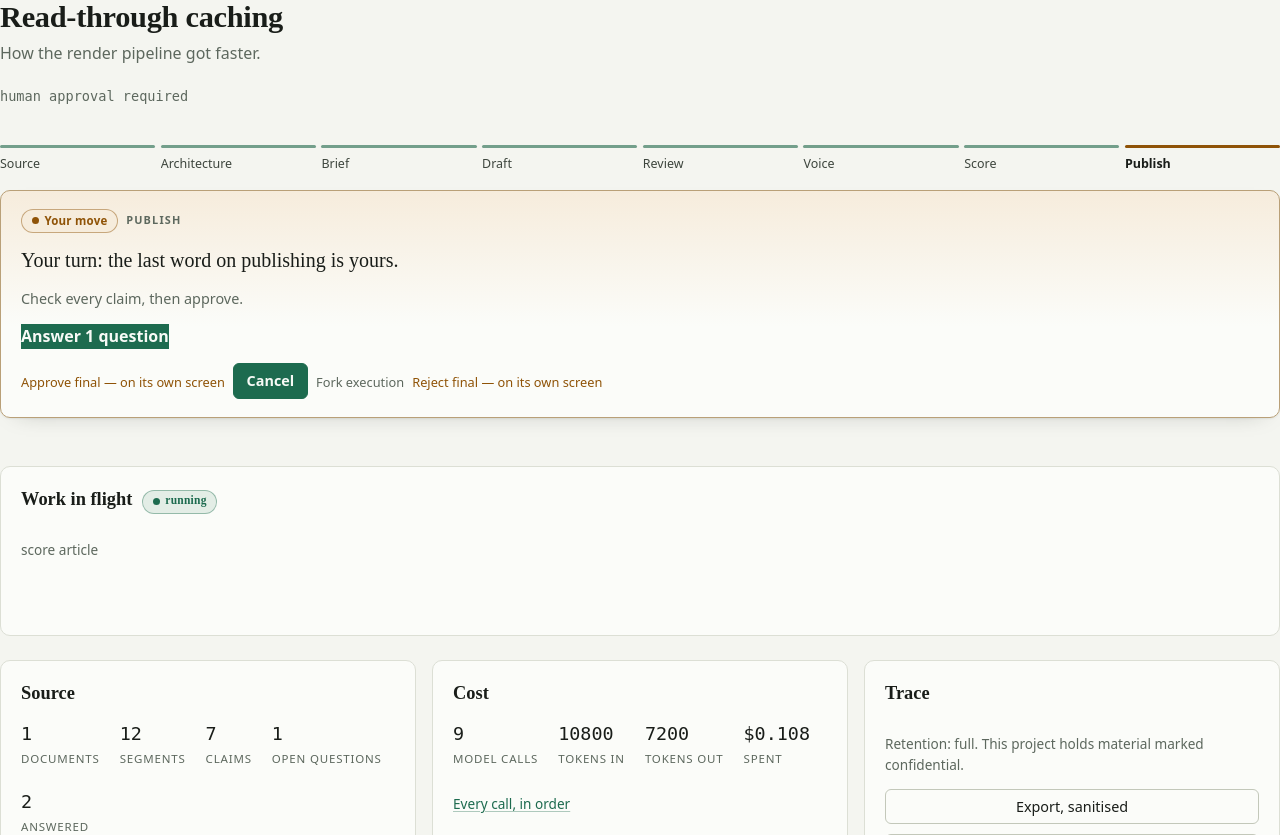
Test case: the trace panel › asks for the sanitised export without an acknowledgement
Click the button "Export, sanitised" at point(1072, 807), box 885,789 -> 1259,824
(page scrolled)
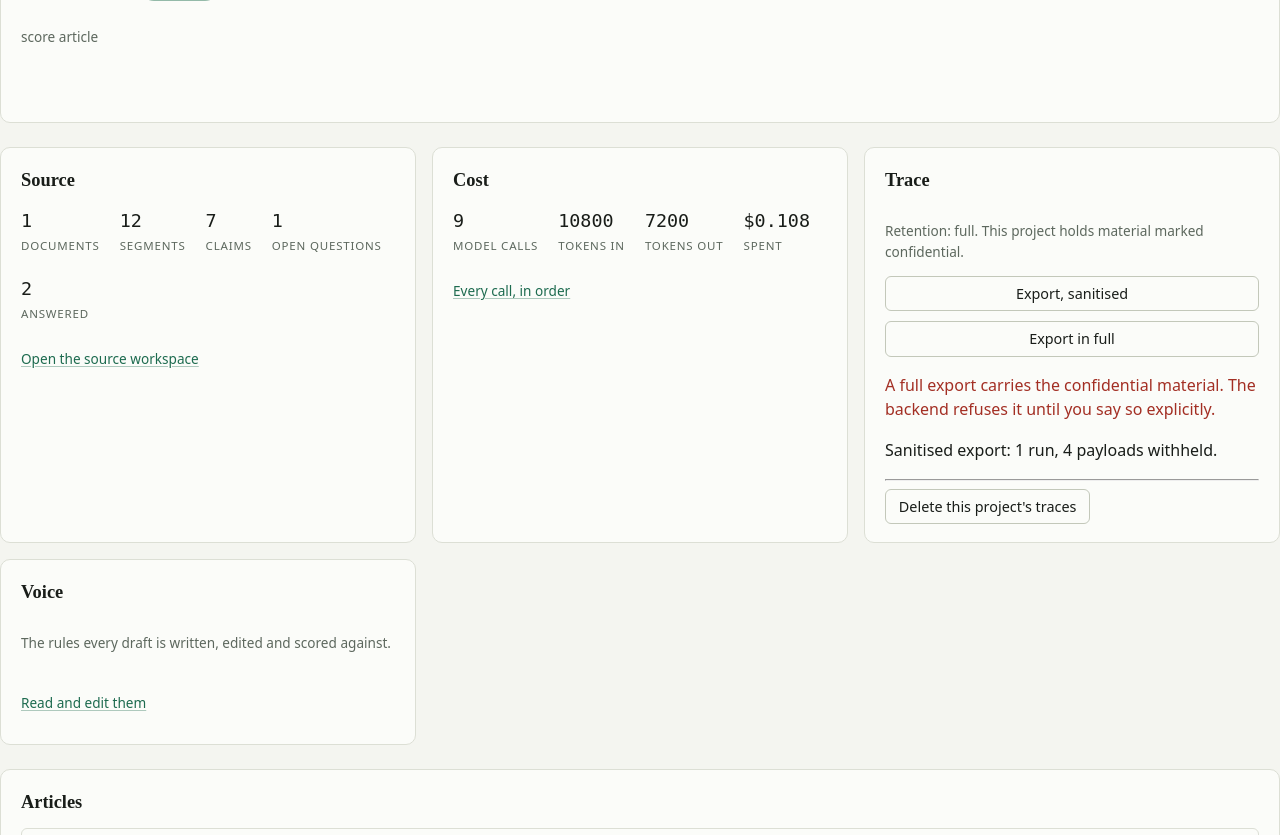
Now the message with test id "export-result" shows "4 payload", box 885,438 -> 1259,463
